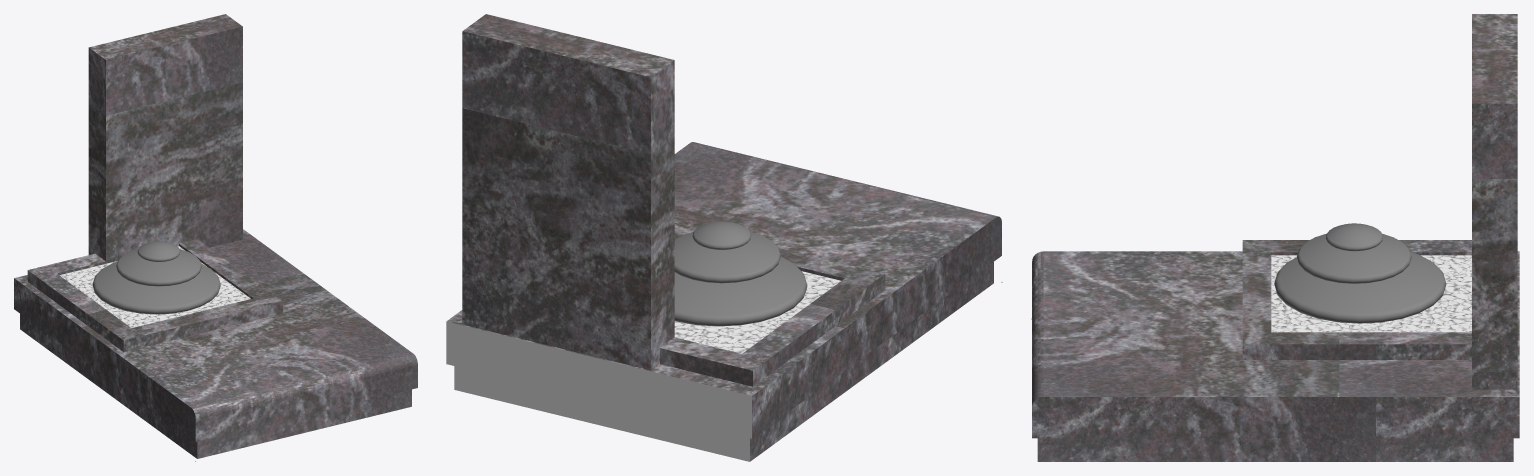
Rendered from Stone_2.fbx.
The picture shows the model from 3 angles, left to right: view 1: azimuth 30°, elevation 25°; view 2: azimuth 150°, elevation 25°; view 3: azimuth 270°, elevation 25°; orthographic projection. The views are drawn at different scales.
Visible parts, largest first — view 1: Model, Group1; view 2: Model, Group1; view 3: Model, Group1.
Part boxes in pixels (bbox=[...]): Model: bbox=[14, 14, 417, 458]; Group1: bbox=[92, 261, 220, 314]; Model: bbox=[446, 14, 1001, 461]; Group1: bbox=[674, 256, 807, 326]; Model: bbox=[1032, 14, 1519, 461]; Group1: bbox=[1274, 252, 1446, 323].
Size of the model in its own units: 601 by 681 by 851.
